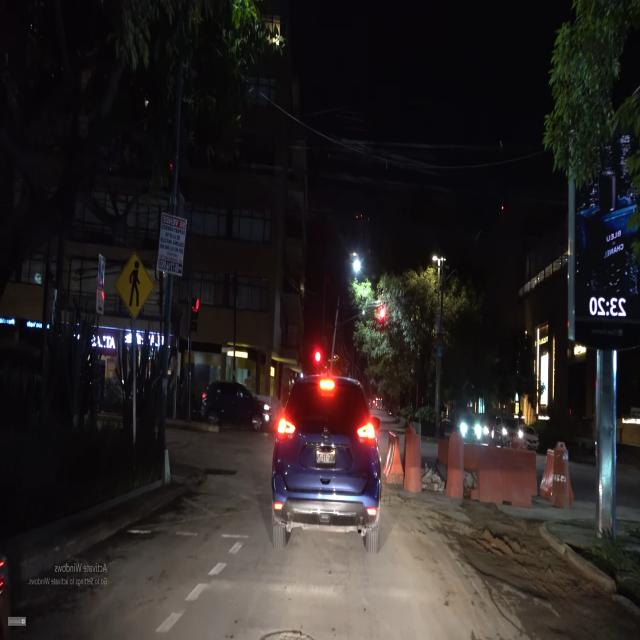headlights: (454, 418, 484, 439), (499, 423, 525, 443)
